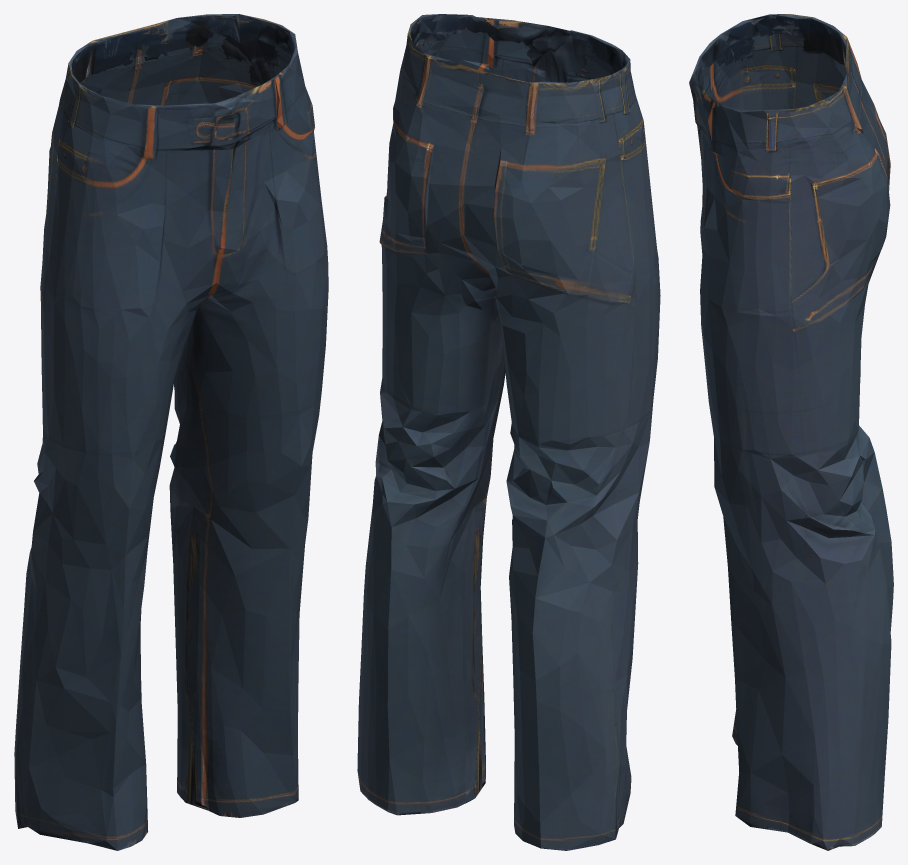
File: flat_pants_0706144747_texture.fbx
3 views of the same model, side by side, from view 1: azimuth 30°, elevation 25°; view 2: azimuth 150°, elevation 25°; view 3: azimuth 270°, elevation 25° (orthographic). The views are drawn at different scales.
Visible parts, largest first — view 1: temp; view 2: temp; view 3: temp.
Part boxes in pixels (bbox=[...]): temp: bbox=[14, 14, 328, 850]; temp: bbox=[357, 14, 660, 850]; temp: bbox=[689, 14, 893, 850].
Bounding box in the file's own units: 74.01 × 201 × 50.73.
1 material, 1 textured.
